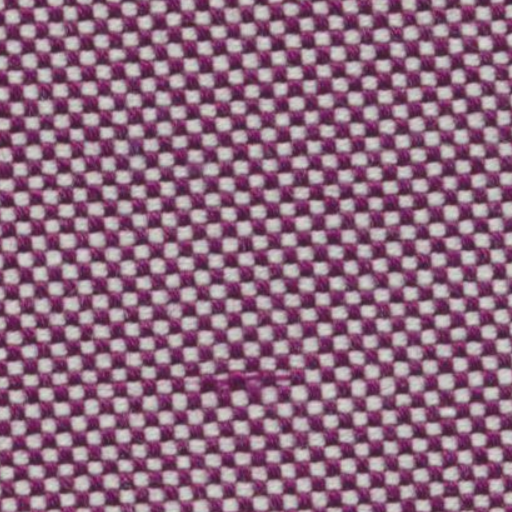DuanSha: (208, 344, 322, 398)
